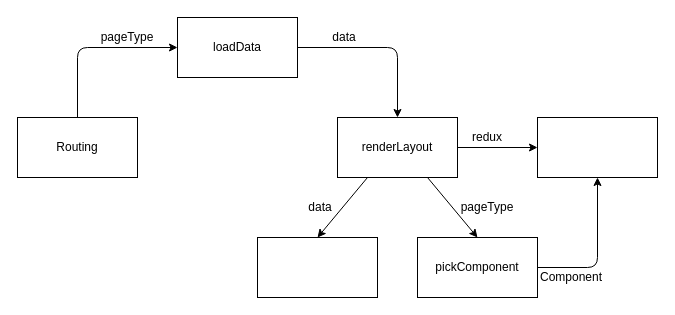
Image size: 675x315. Some labels were removed from this diagram. Here are the shapes that lost their labels. From the top down, the box of each, then its label:
(536, 116, 658, 178): render
(256, 236, 378, 298): @quintype/seo
